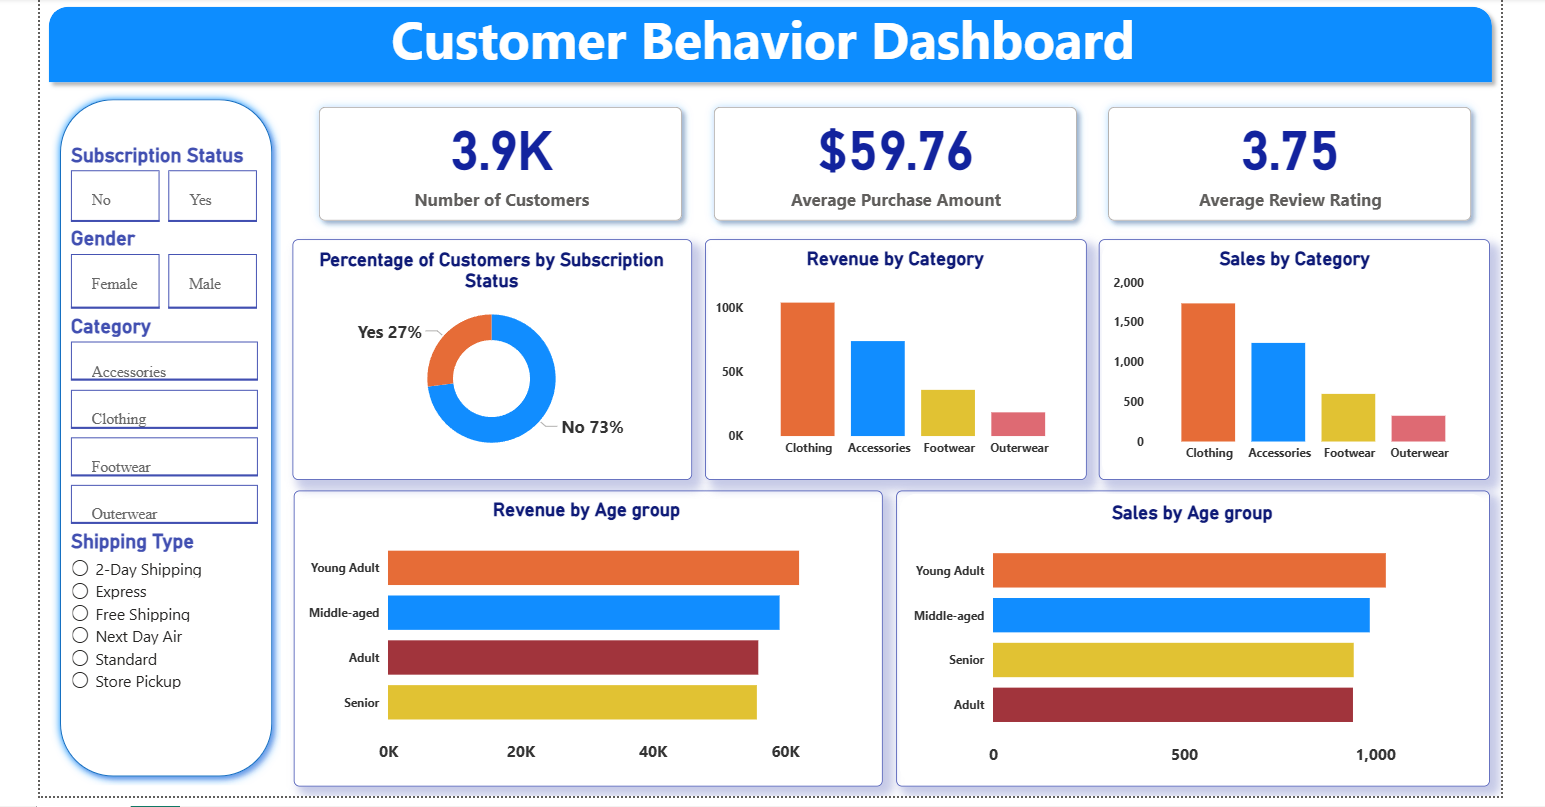

Layout of this report page (visuals, bound fields, positions):
{"tool":"powerbi","page":{"name":"Page 1","canvas":[1500,820],"ordinal":0},"visuals":[{"type":"shape","box":[260.4,505.5,604.4,303.6],"z":0},{"type":"cardVisual","fields":{"Data":["customer_behavior customer_table.Number of Customers","customer_behavior customer_table.Average Purchase Amount","customer_behavior customer_table.Average Review Rating"]},"box":[269.7,95.5,1219.1,151.7],"z":1000},{"type":"shape","box":[0,0,1500,95.5],"z":2000},{"type":"textbox","box":[0,0,1500,82.9],"z":3000},{"type":"shape","box":[259.8,247.2,410.1,247.2],"z":4000},{"type":"donutChart","title":"Percentage of Customers by Subscription  Status","fields":{"Category":["customer_behavior customer_table.subscription_status"],"Y":["CountNonNull(customer_behavior customer_table.customer_id)"]},"box":[270.2,257.6,388.6,222.8],"z":5000},{"type":"shape","box":[682.6,247.2,391.9,247.2],"z":6000},{"type":"shape","box":[1087.1,247.2,401.7,247.2],"z":7000},{"type":"clusteredColumnChart","title":"Revenue by Category","fields":{"Y":["Sum(customer_behavior customer_table.purchase_amount)"],"Category":["customer_behavior customer_table.category"]},"box":[688.2,257,380.6,223.3],"z":8000},{"type":"clusteredColumnChart","title":"Sales by Category","fields":{"Y":["CountNonNull(customer_behavior customer_table.customer_id)"],"Category":["customer_behavior customer_table.category"]},"box":[1096.9,257,382,228.9],"z":9000},{"type":"shape","box":[11.2,95.5,236,713.5],"z":10000},{"type":"advancedSlicerVisual","title":"Subscription Status","fields":{"Values":["customer_behavior customer_table.subscription_status"]},"box":[27.1,148.8,202.9,86.2],"z":11000},{"type":"advancedSlicerVisual","title":"Gender","fields":{"Values":["customer_behavior customer_table.gender"]},"box":[27.1,235,202.9,89.6],"z":12000},{"type":"advancedSlicerVisual","title":"Category ","fields":{"Values":["customer_behavior customer_table.category"]},"box":[27.1,324.6,202.9,221.5],"z":13000},{"type":"listSlicer","title":"Shipping Type","fields":{"Values":["customer_behavior customer_table.shipping_type"]},"box":[27.1,546.1,202.9,218.1],"z":14000},{"type":"clusteredBarChart","title":"Revenue by Age group","fields":{"Y":["Sum(customer_behavior customer_table.purchase_amount)"],"Category":["customer_behavior customer_table.age_group"]},"box":[270.2,515.3,583.5,281.3],"z":15000},{"type":"shape","box":[878.8,505.5,610,303.6],"z":15001},{"type":"clusteredBarChart","title":"Sales by Age group","fields":{"Y":["CountNonNull(customer_behavior customer_table.customer_id)"],"Category":["customer_behavior customer_table.age_group"]},"box":[891.3,516.7,584.9,281.3],"z":15002}]}

Visuals, with their boxes in screenshot pixels (x1, y1, x2, y2):
shape: BBox(293, 492, 881, 787)
cardVisual - customer_behavior customer_table.Number of Customers x customer_behavior customer_table.Average Purchase Amount: BBox(303, 93, 1488, 240)
shape: BBox(40, 0, 1499, 93)
textbox: BBox(40, 0, 1499, 81)
shape: BBox(293, 240, 692, 481)
"Percentage of Customers by Subscription  Status" donutChart: BBox(303, 251, 681, 467)
shape: BBox(704, 240, 1085, 481)
shape: BBox(1098, 240, 1488, 481)
"Revenue by Category" clusteredColumnChart: BBox(710, 250, 1080, 467)
"Sales by Category" clusteredColumnChart: BBox(1107, 250, 1479, 473)
shape: BBox(51, 93, 281, 787)
"Subscription Status" advancedSlicerVisual: BBox(67, 145, 264, 229)
"Gender" advancedSlicerVisual: BBox(67, 229, 264, 316)
"Category " advancedSlicerVisual: BBox(67, 316, 264, 531)
"Shipping Type" listSlicer: BBox(67, 531, 264, 743)
"Revenue by Age group" clusteredBarChart: BBox(303, 501, 871, 775)
shape: BBox(895, 492, 1488, 787)
"Sales by Age group" clusteredBarChart: BBox(907, 503, 1476, 776)
